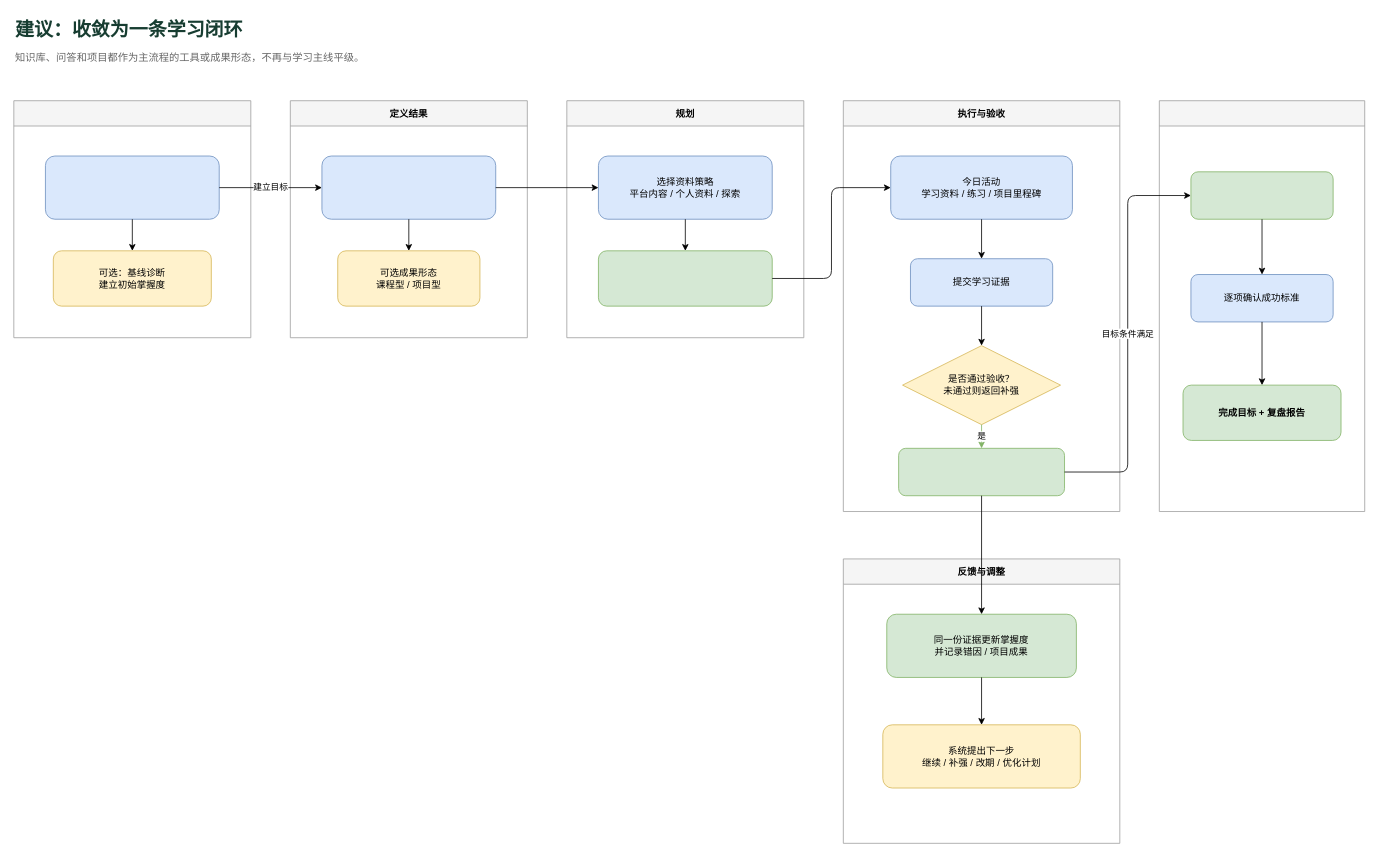
The diagram is 1379 pixels wide and 857 high, and some of its shapes have lost their labels. Each missing label, with the box of its shape:
Agent 提案 → 校验 → 用户发布: (598, 250, 772, 306)
一次性设置: (13, 100, 251, 338)
创建一个目标 日期、预算、可勾选成功标准: (321, 155, 496, 219)
学习方向 + 当前水平 每周可用时间 + 偏好: (45, 155, 219, 219)
所有必需活动通过: (1190, 171, 1333, 219)
目标收口: (1159, 100, 1365, 512)
通过后才统一标记完成: (898, 448, 1065, 496)
